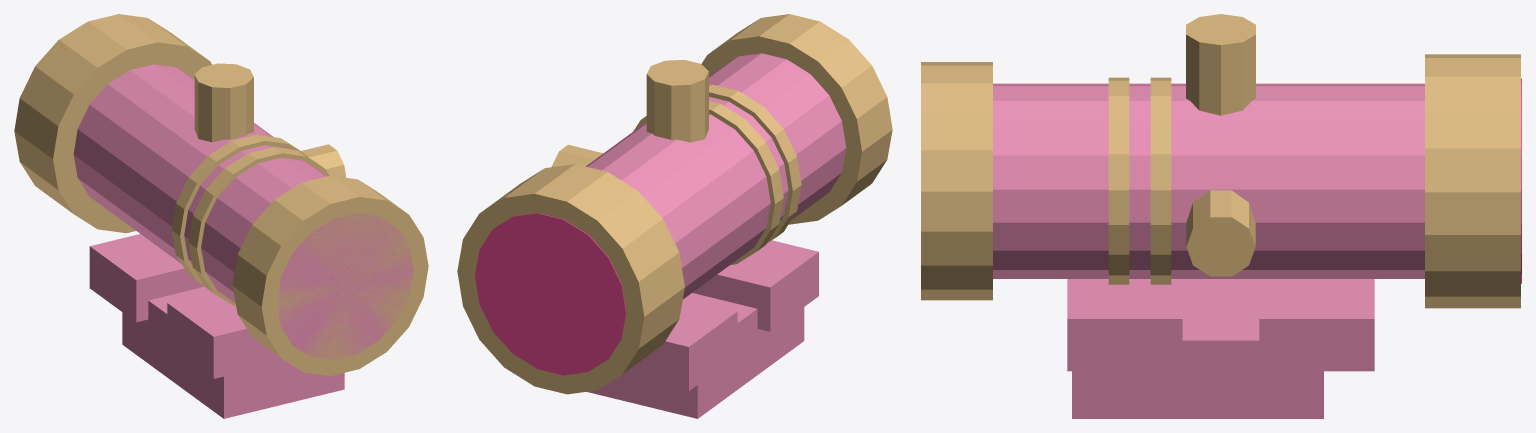
The model's file is Scope2x.obj.
3 renders of one model, left to right at view 1: azimuth 30°, elevation 25°; view 2: azimuth 150°, elevation 25°; view 3: azimuth 270°, elevation 25°, orthographic. The views are drawn at different scales.
Parts seen in each view (by area): view 1: Scope2x_Body, Scope2x_Detail; view 2: Scope2x_Body, Scope2x_Detail, Lens; view 3: Scope2x_Body, Scope2x_Detail.
Part boxes in pixels (bbox=[...]): Scope2x_Body: bbox=[73, 64, 413, 418]; Scope2x_Detail: bbox=[14, 14, 428, 375]; Scope2x_Body: bbox=[586, 53, 846, 418]; Scope2x_Detail: bbox=[457, 14, 892, 394]; Lens: bbox=[475, 213, 626, 375]; Scope2x_Body: bbox=[993, 83, 1424, 418]; Scope2x_Detail: bbox=[921, 14, 1520, 308].
Size of the model in its own units: 0.2455 by 0.3375 by 0.5208.
